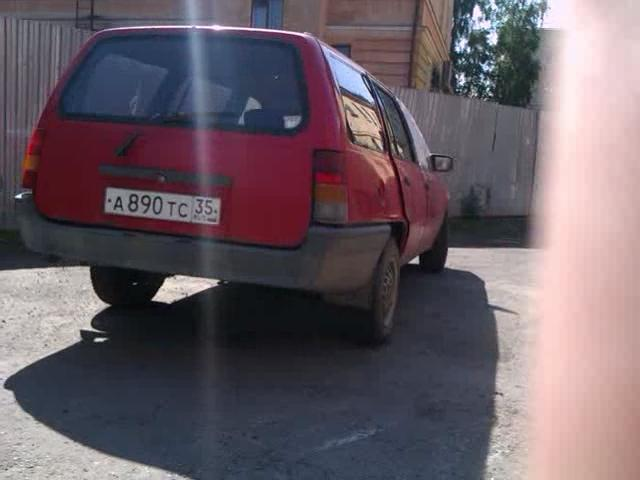car license plate: (104, 183, 223, 229)
